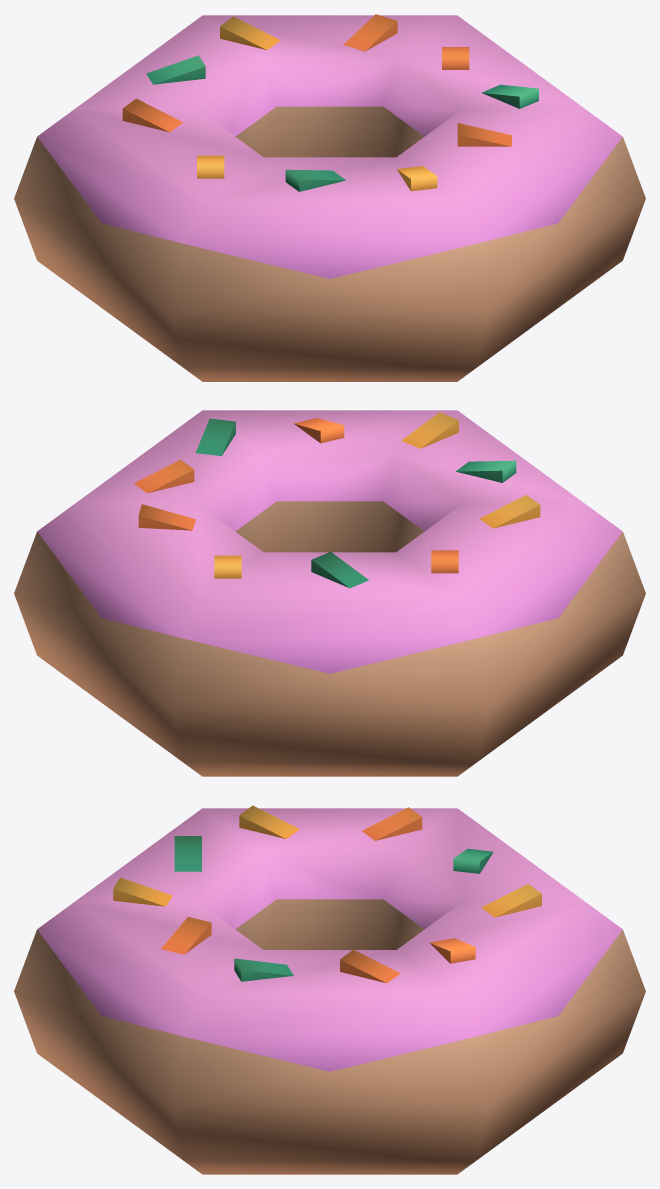
File: donut-sprinkles.obj
The picture shows the model from 3 angles, top to bottom: view 1: azimuth 30°, elevation 25°; view 2: azimuth 150°, elevation 25°; view 3: azimuth 270°, elevation 25°; orthographic projection.
Visible parts, largest first — view 1: donut-sprinkles; view 2: donut-sprinkles; view 3: donut-sprinkles.
Boxes of the visible parts, x1,y1,x2,y2 form: donut-sprinkles: (14,14,645,381); donut-sprinkles: (14,410,645,776); donut-sprinkles: (14,805,645,1174).
Size of the model in its own units: 0.2451 by 0.095 by 0.283.
1 material, 1 textured.
